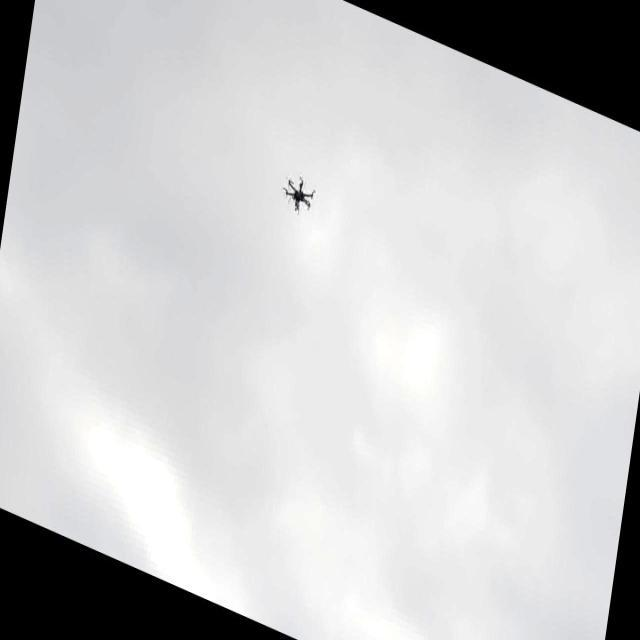drone: (278, 168, 320, 222)
